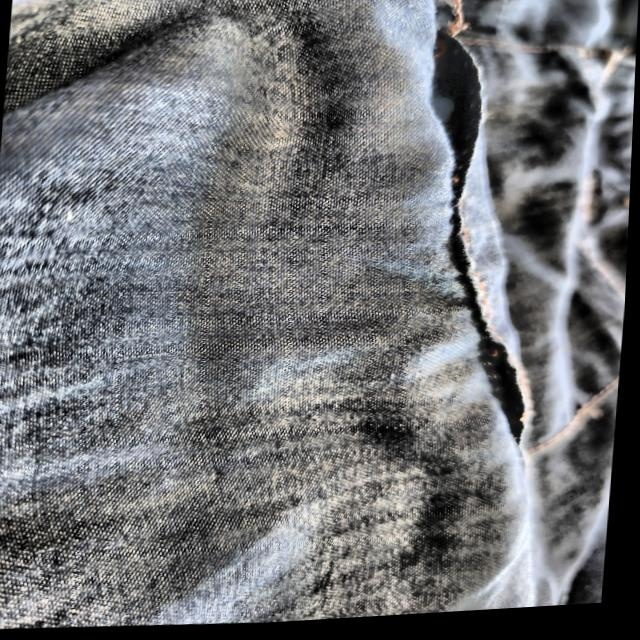seam: (448, 313, 563, 470)
